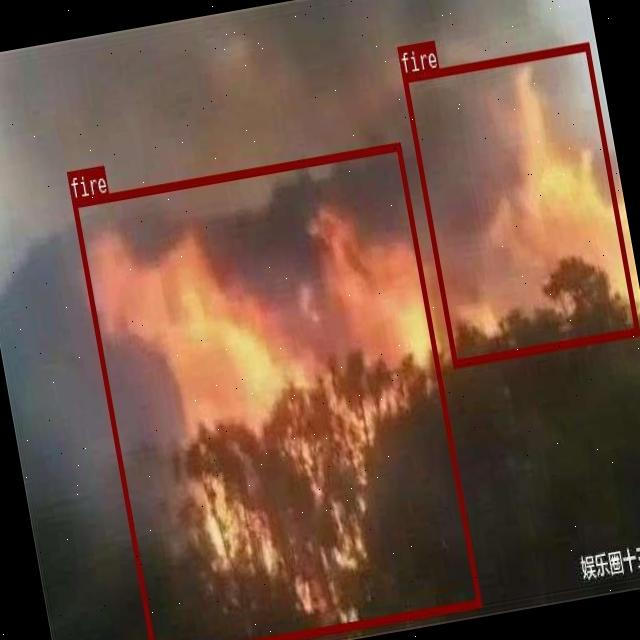fire: (71, 142, 480, 640), (402, 41, 638, 366)
